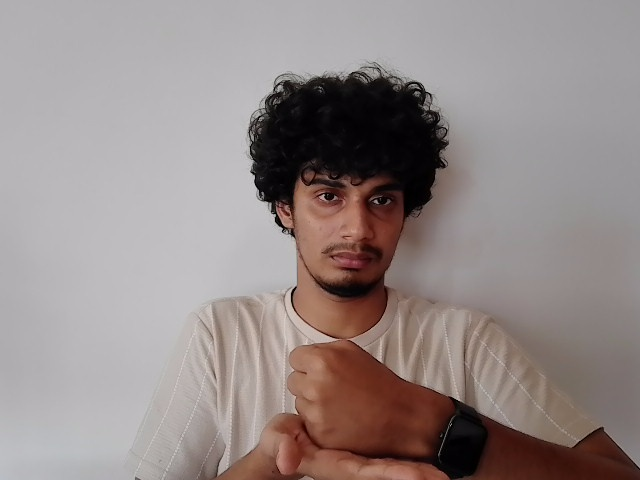help: (258, 333, 451, 480)
